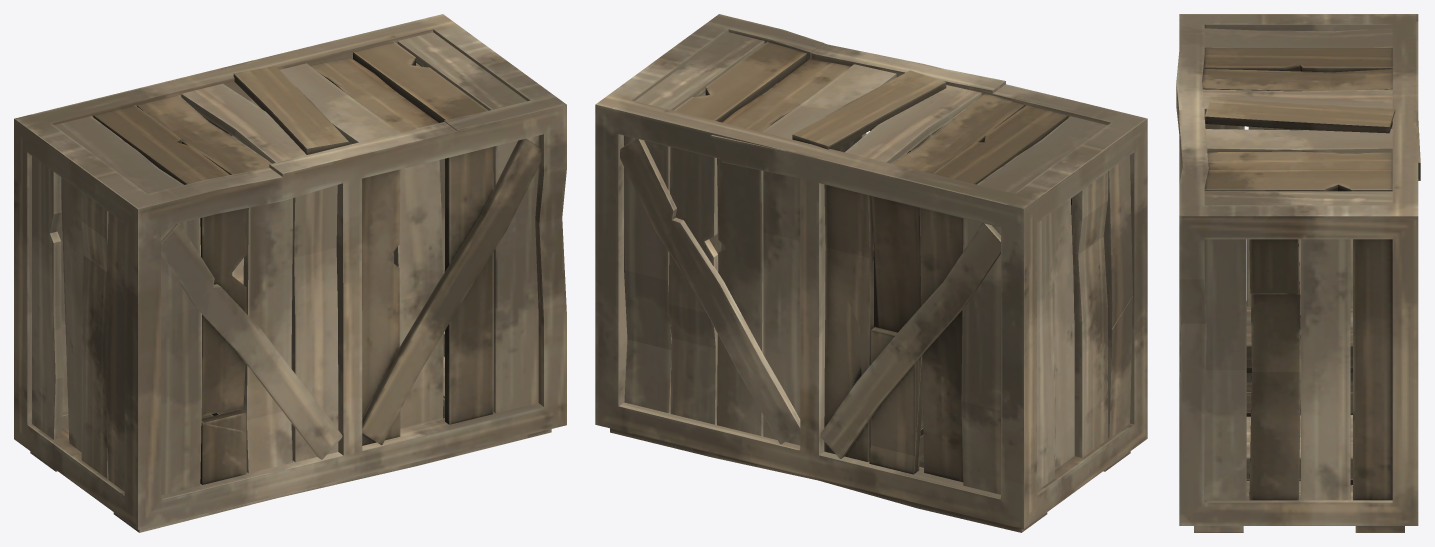
Rendered from BreakableCrateMedium.glb.
3 views of the same model, side by side, from view 1: azimuth 30°, elevation 25°; view 2: azimuth 150°, elevation 25°; view 3: azimuth 270°, elevation 25° (orthographic). The views are drawn at different scales.
Parts seen in each view (by area): view 1: BreakableCrateMedium, BreakableCrate_2_Gib2, BreakableCrate_2_Gib5, BreakableCrate_2_Gib1, BreakableCrate_2_Gib11, BreakableCrate_2_Gib3, BreakableCrate_2_Gib12, BreakableCrate_2_Gib7, BreakableCrate_2_Gib4, BreakableCrate_2_Gib8, BreakableCrate_2_Gib10; view 2: BreakableCrateMedium, BreakableCrate_2_Gib13, BreakableCrate_2_Gib5, BreakableCrate_2_Gib4, BreakableCrate_2_Gib9, BreakableCrate_2_Gib1, BreakableCrate_2_Gib11, BreakableCrate_2_Gib2, BreakableCrate_2_Gib8, BreakableCrate_2_Gib10, BreakableCrate_2_Gib7; view 3: BreakableCrateMedium, BreakableCrate_2_Gib11, BreakableCrate_2_Gib10, BreakableCrate_2_Gib8, BreakableCrate_2_Gib7, BreakableCrate_2_Gib5, BreakableCrate_2_Gib1.
Part boxes in pixels (x1,y1,x2,y2): BreakableCrateMedium: (14, 14, 566, 532); BreakableCrate_2_Gib2: (76, 289, 251, 529); BreakableCrate_2_Gib5: (14, 87, 186, 358); BreakableCrate_2_Gib1: (76, 108, 281, 351); BreakableCrate_2_Gib11: (340, 14, 535, 271); BreakableCrate_2_Gib3: (161, 223, 342, 459); BreakableCrate_2_Gib12: (441, 220, 558, 438); BreakableCrate_2_Gib7: (269, 124, 444, 328); BreakableCrate_2_Gib4: (14, 324, 75, 484); BreakableCrate_2_Gib8: (233, 74, 346, 154); BreakableCrate_2_Gib10: (444, 82, 566, 130); BreakableCrateMedium: (595, 14, 1146, 532); BreakableCrate_2_Gib13: (595, 236, 759, 461); BreakableCrate_2_Gib5: (864, 158, 1085, 448); BreakableCrate_2_Gib4: (755, 248, 1085, 532); BreakableCrate_2_Gib9: (710, 135, 877, 337); BreakableCrate_2_Gib1: (933, 102, 1147, 234); BreakableCrate_2_Gib11: (602, 37, 806, 255); BreakableCrate_2_Gib2: (1085, 199, 1147, 483); BreakableCrate_2_Gib8: (792, 82, 946, 149); BreakableCrate_2_Gib10: (694, 14, 823, 95); BreakableCrate_2_Gib7: (815, 45, 1005, 272); BreakableCrateMedium: (1176, 14, 1418, 532); BreakableCrate_2_Gib11: (1204, 162, 1418, 409); BreakableCrate_2_Gib10: (1179, 166, 1251, 323); BreakableCrate_2_Gib8: (1205, 98, 1395, 131); BreakableCrate_2_Gib7: (1176, 80, 1208, 165); BreakableCrate_2_Gib5: (1298, 14, 1418, 58); BreakableCrate_2_Gib1: (1179, 14, 1391, 67).
Bounding box in the file's own units: 1.45 × 1.08 × 0.7408.
1 material, 1 textured.
